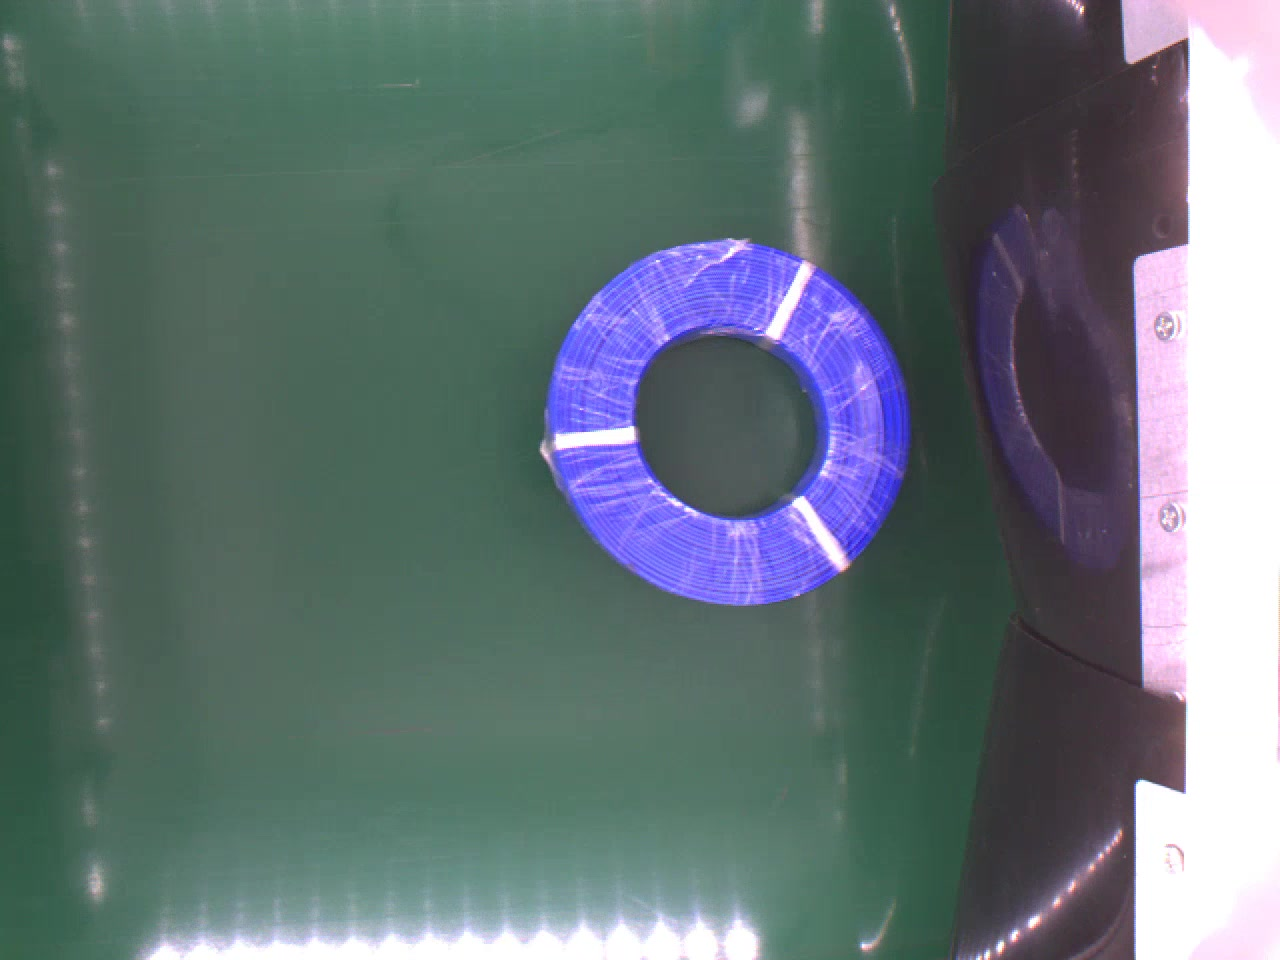blue: (540, 235, 910, 605)
